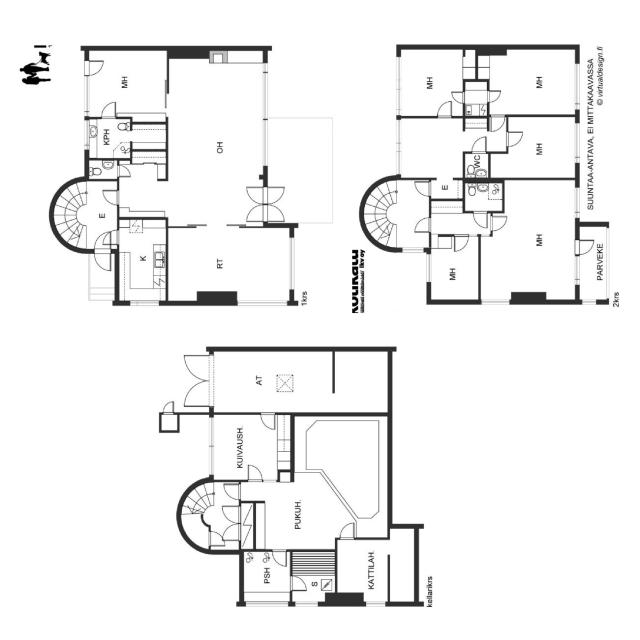door: (180, 351, 216, 410), (242, 186, 290, 215), (92, 228, 115, 274), (218, 502, 242, 543), (98, 228, 121, 254), (258, 410, 280, 433), (82, 59, 107, 78), (243, 462, 265, 483), (270, 547, 290, 569), (221, 482, 244, 501), (212, 526, 236, 544), (99, 99, 120, 119), (220, 504, 241, 524), (504, 130, 526, 149), (469, 134, 489, 154), (100, 187, 121, 206), (471, 209, 490, 230), (288, 574, 310, 592), (574, 238, 596, 256), (451, 234, 470, 254), (337, 521, 356, 541), (412, 179, 433, 197), (490, 213, 509, 232), (436, 100, 454, 119), (412, 216, 432, 233), (489, 114, 506, 133), (114, 164, 134, 180), (485, 88, 503, 104), (160, 400, 177, 415), (208, 530, 226, 544), (450, 90, 466, 104)
window: (424, 240, 479, 301), (260, 63, 272, 172), (204, 48, 268, 66), (203, 415, 218, 477), (391, 117, 404, 176), (231, 296, 292, 308), (571, 61, 584, 112), (393, 56, 403, 114), (287, 233, 297, 290), (572, 121, 584, 166), (242, 597, 291, 608), (82, 73, 92, 115), (81, 120, 93, 154), (423, 252, 434, 285), (571, 187, 582, 220), (572, 255, 583, 288), (478, 297, 514, 307), (126, 299, 164, 308), (292, 598, 322, 608), (360, 598, 390, 608), (398, 245, 427, 255), (580, 298, 600, 306)
zone: (164, 53, 267, 224), (289, 414, 392, 533), (482, 180, 579, 298), (163, 226, 294, 301), (210, 352, 336, 410), (477, 49, 579, 115), (86, 49, 170, 117), (209, 413, 293, 479), (398, 49, 476, 116), (51, 182, 122, 252), (362, 179, 430, 249), (502, 116, 578, 178), (116, 219, 169, 302), (330, 349, 392, 412), (428, 239, 480, 300), (241, 552, 291, 604), (290, 550, 338, 596), (85, 118, 132, 160), (464, 182, 504, 211), (130, 123, 168, 151), (463, 83, 488, 116), (463, 152, 490, 178), (85, 159, 118, 179)
